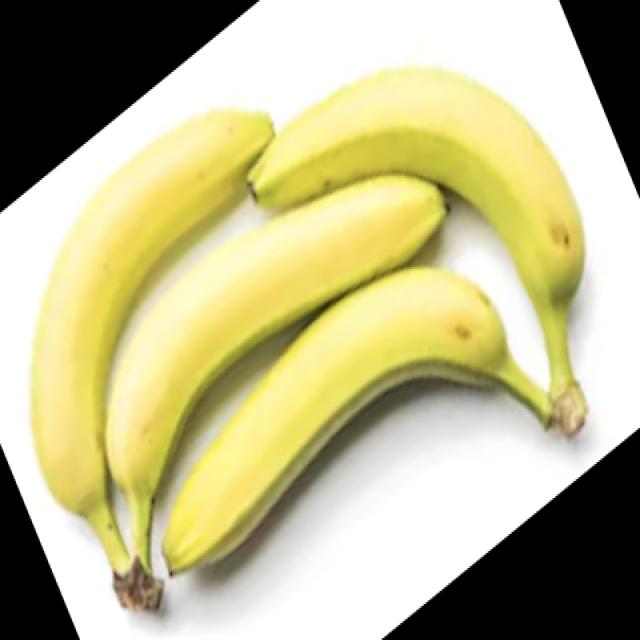god quality banana: (32, 66, 589, 611)
